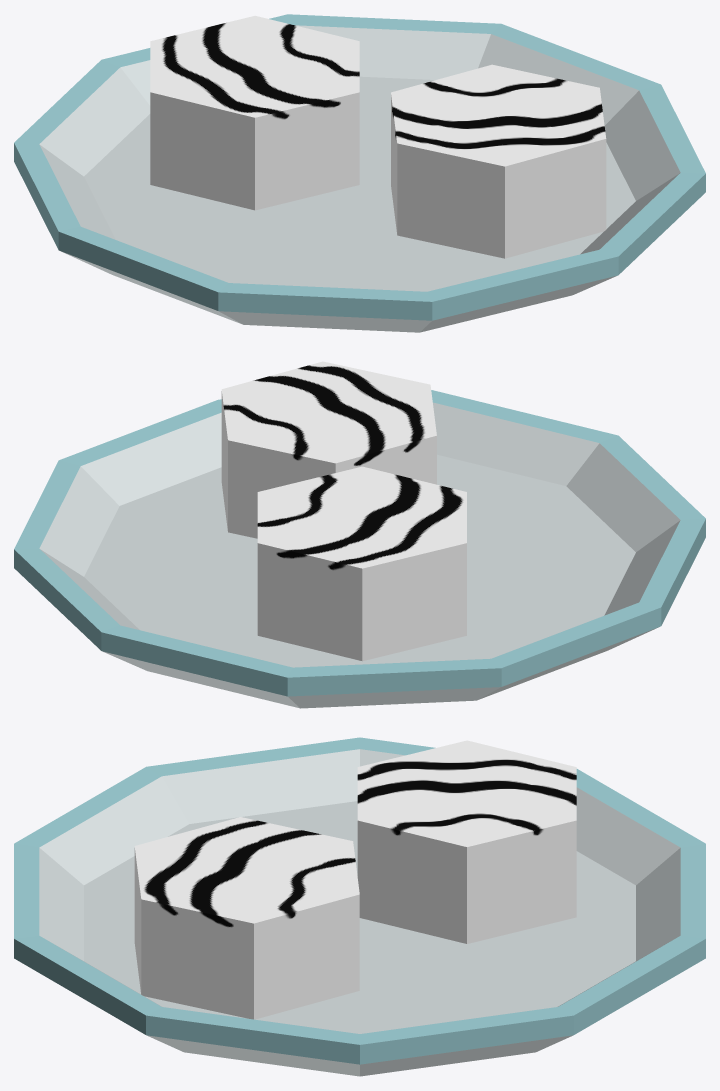
The model's file is snackCake_fbx.fbx.
3 renders of one model, top to bottom at view 1: azimuth 30°, elevation 25°; view 2: azimuth 150°, elevation 25°; view 3: azimuth 270°, elevation 25°, orthographic. The views are drawn at different scales.
Visible parts, largest first — view 1: snackCake_plate1, snackCake1, snackCake; view 2: snackCake_plate1, snackCake, snackCake1; view 3: snackCake_plate1, snackCake1, snackCake.
Part boxes in pixels (bbox=[...]): snackCake_plate1: bbox=[14, 14, 705, 332]; snackCake1: bbox=[391, 64, 606, 258]; snackCake: bbox=[150, 15, 359, 210]; snackCake_plate1: bbox=[14, 390, 705, 708]; snackCake: bbox=[257, 466, 466, 661]; snackCake1: bbox=[221, 361, 436, 538]; snackCake_plate1: bbox=[14, 737, 705, 1076]; snackCake1: bbox=[134, 817, 359, 1019]; snackCake: bbox=[357, 740, 576, 943].
Size of the model in its own units: 1.4 by 0.3014 by 1.34.
